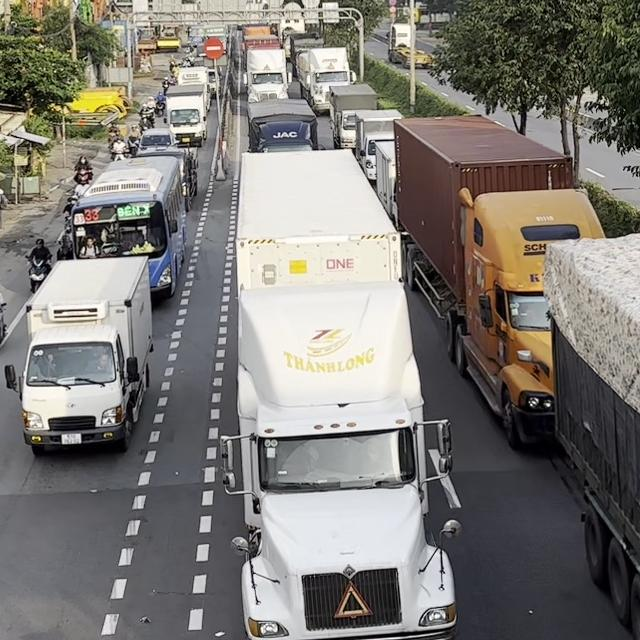bus: (65, 155, 188, 300)
motorcycle: (25, 254, 52, 293), (74, 165, 93, 185)
truck: (213, 147, 462, 639), (394, 114, 607, 450), (542, 231, 639, 639), (3, 254, 154, 455), (295, 46, 357, 114), (246, 98, 319, 152), (354, 108, 404, 182), (328, 82, 377, 149), (162, 83, 209, 146), (245, 42, 291, 101), (373, 136, 397, 227)
